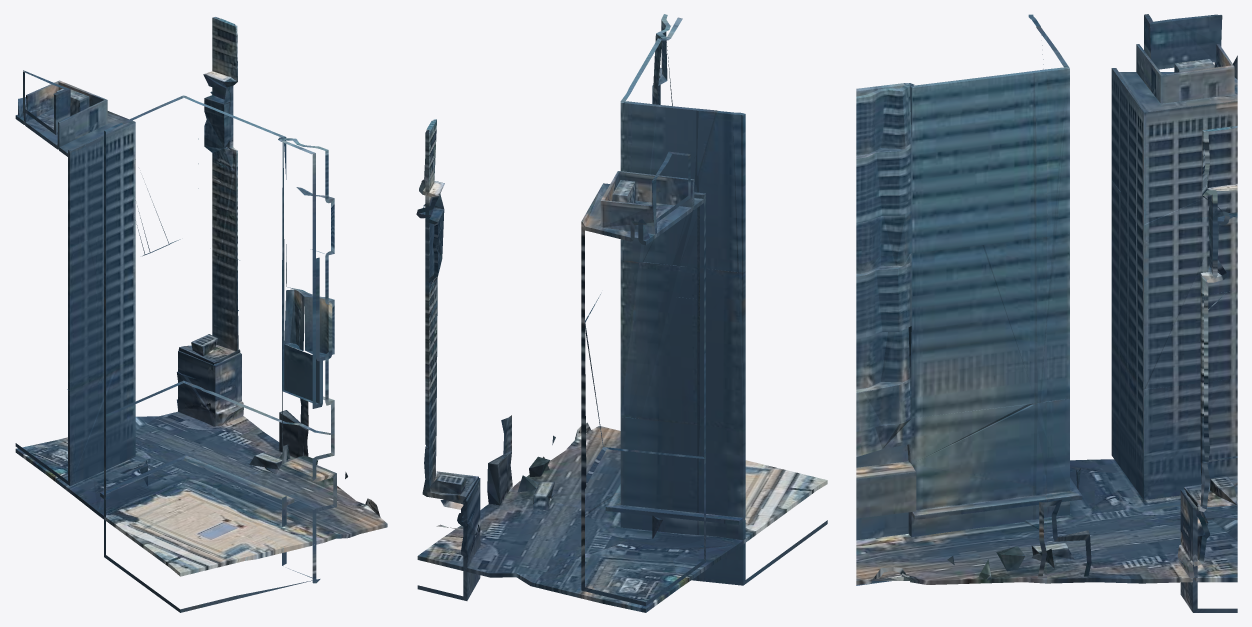
The model's file is chunk_-9_-5.glb.
The picture shows the model from 3 angles, left to right: view 1: azimuth 30°, elevation 25°; view 2: azimuth 150°, elevation 25°; view 3: azimuth 270°, elevation 25°; orthographic projection. The views are drawn at different scales.
Parts seen in each view (by area): view 1: hero-chunk; view 2: hero-chunk; view 3: hero-chunk.
Part boxes in pixels (x1,y1,x2,y2): hero-chunk: [15, 17, 387, 612]; hero-chunk: [416, 14, 827, 612]; hero-chunk: [856, 14, 1237, 612].
Bounding box in the file's own units: 56.35 × 111 × 76.33.
Materials: 4 (4 with a texture image).
